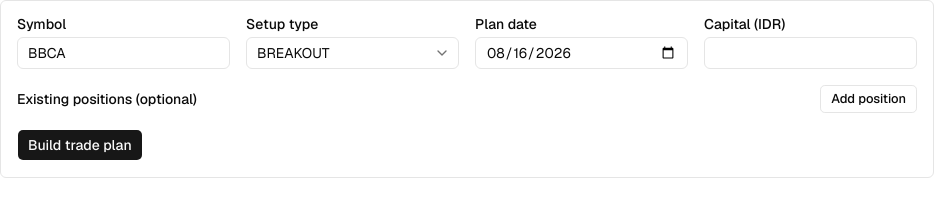
Test: TradePlanForm › rejects a non-positive capital value (-100), same as blank
The image size is (951, 217).
Type "-100" into the number field labelled "Capital (IDR)". click: (810, 53)
box: [704,37,917,69]
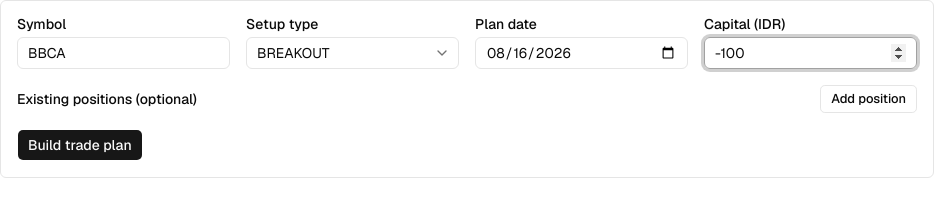
Click the button "Build trade plan". click: (80, 145)
box: [17,129,143,161]
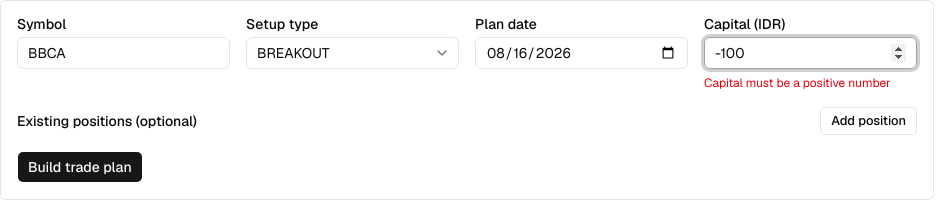
Check: the text "Capital must be a positive number" is shown, box [704,75,917,91]
